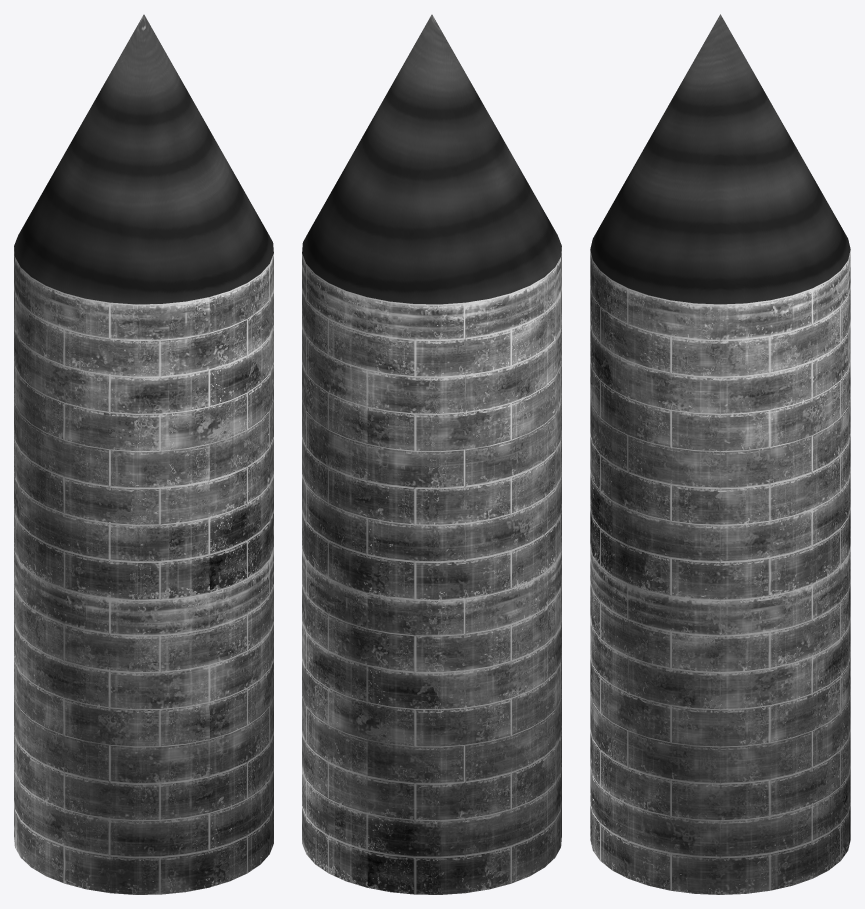
The model's file is tower.obj.
The picture shows the model from 3 angles, left to right: view 1: azimuth 30°, elevation 25°; view 2: azimuth 150°, elevation 25°; view 3: azimuth 270°, elevation 25°; orthographic projection.
Visible parts, largest first — view 1: tower; view 2: tower; view 3: tower.
Part boxes in pixels (<box>): tower: <box>14,14,273,894</box>; tower: <box>302,14,561,894</box>; tower: <box>590,14,850,894</box>.
Size of the model in its own units: 2 by 7 by 2.
Materials: 1 (1 with a texture image).
